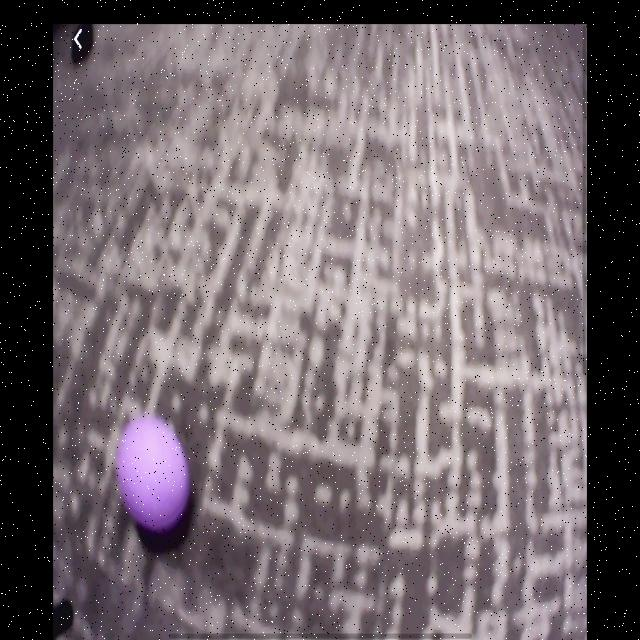ball: (120, 420, 190, 536)
